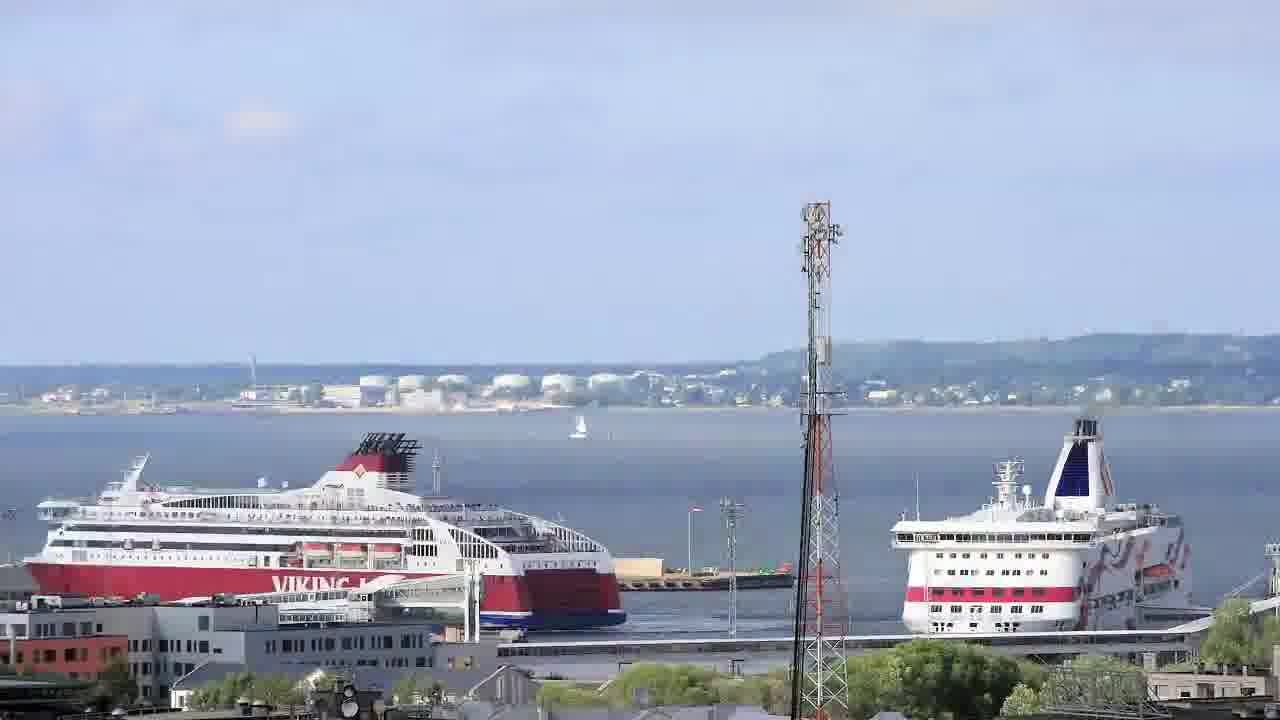type-2: (565, 399, 617, 454)
type-3: (23, 437, 654, 625), (868, 415, 1225, 638)
